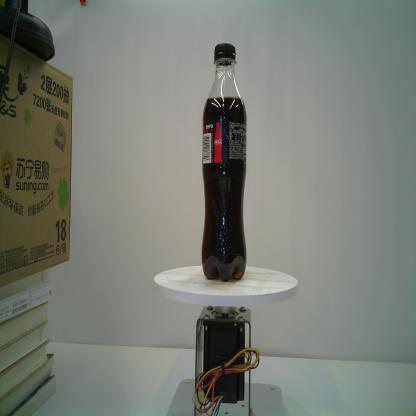Drink: (196, 41, 249, 284)
